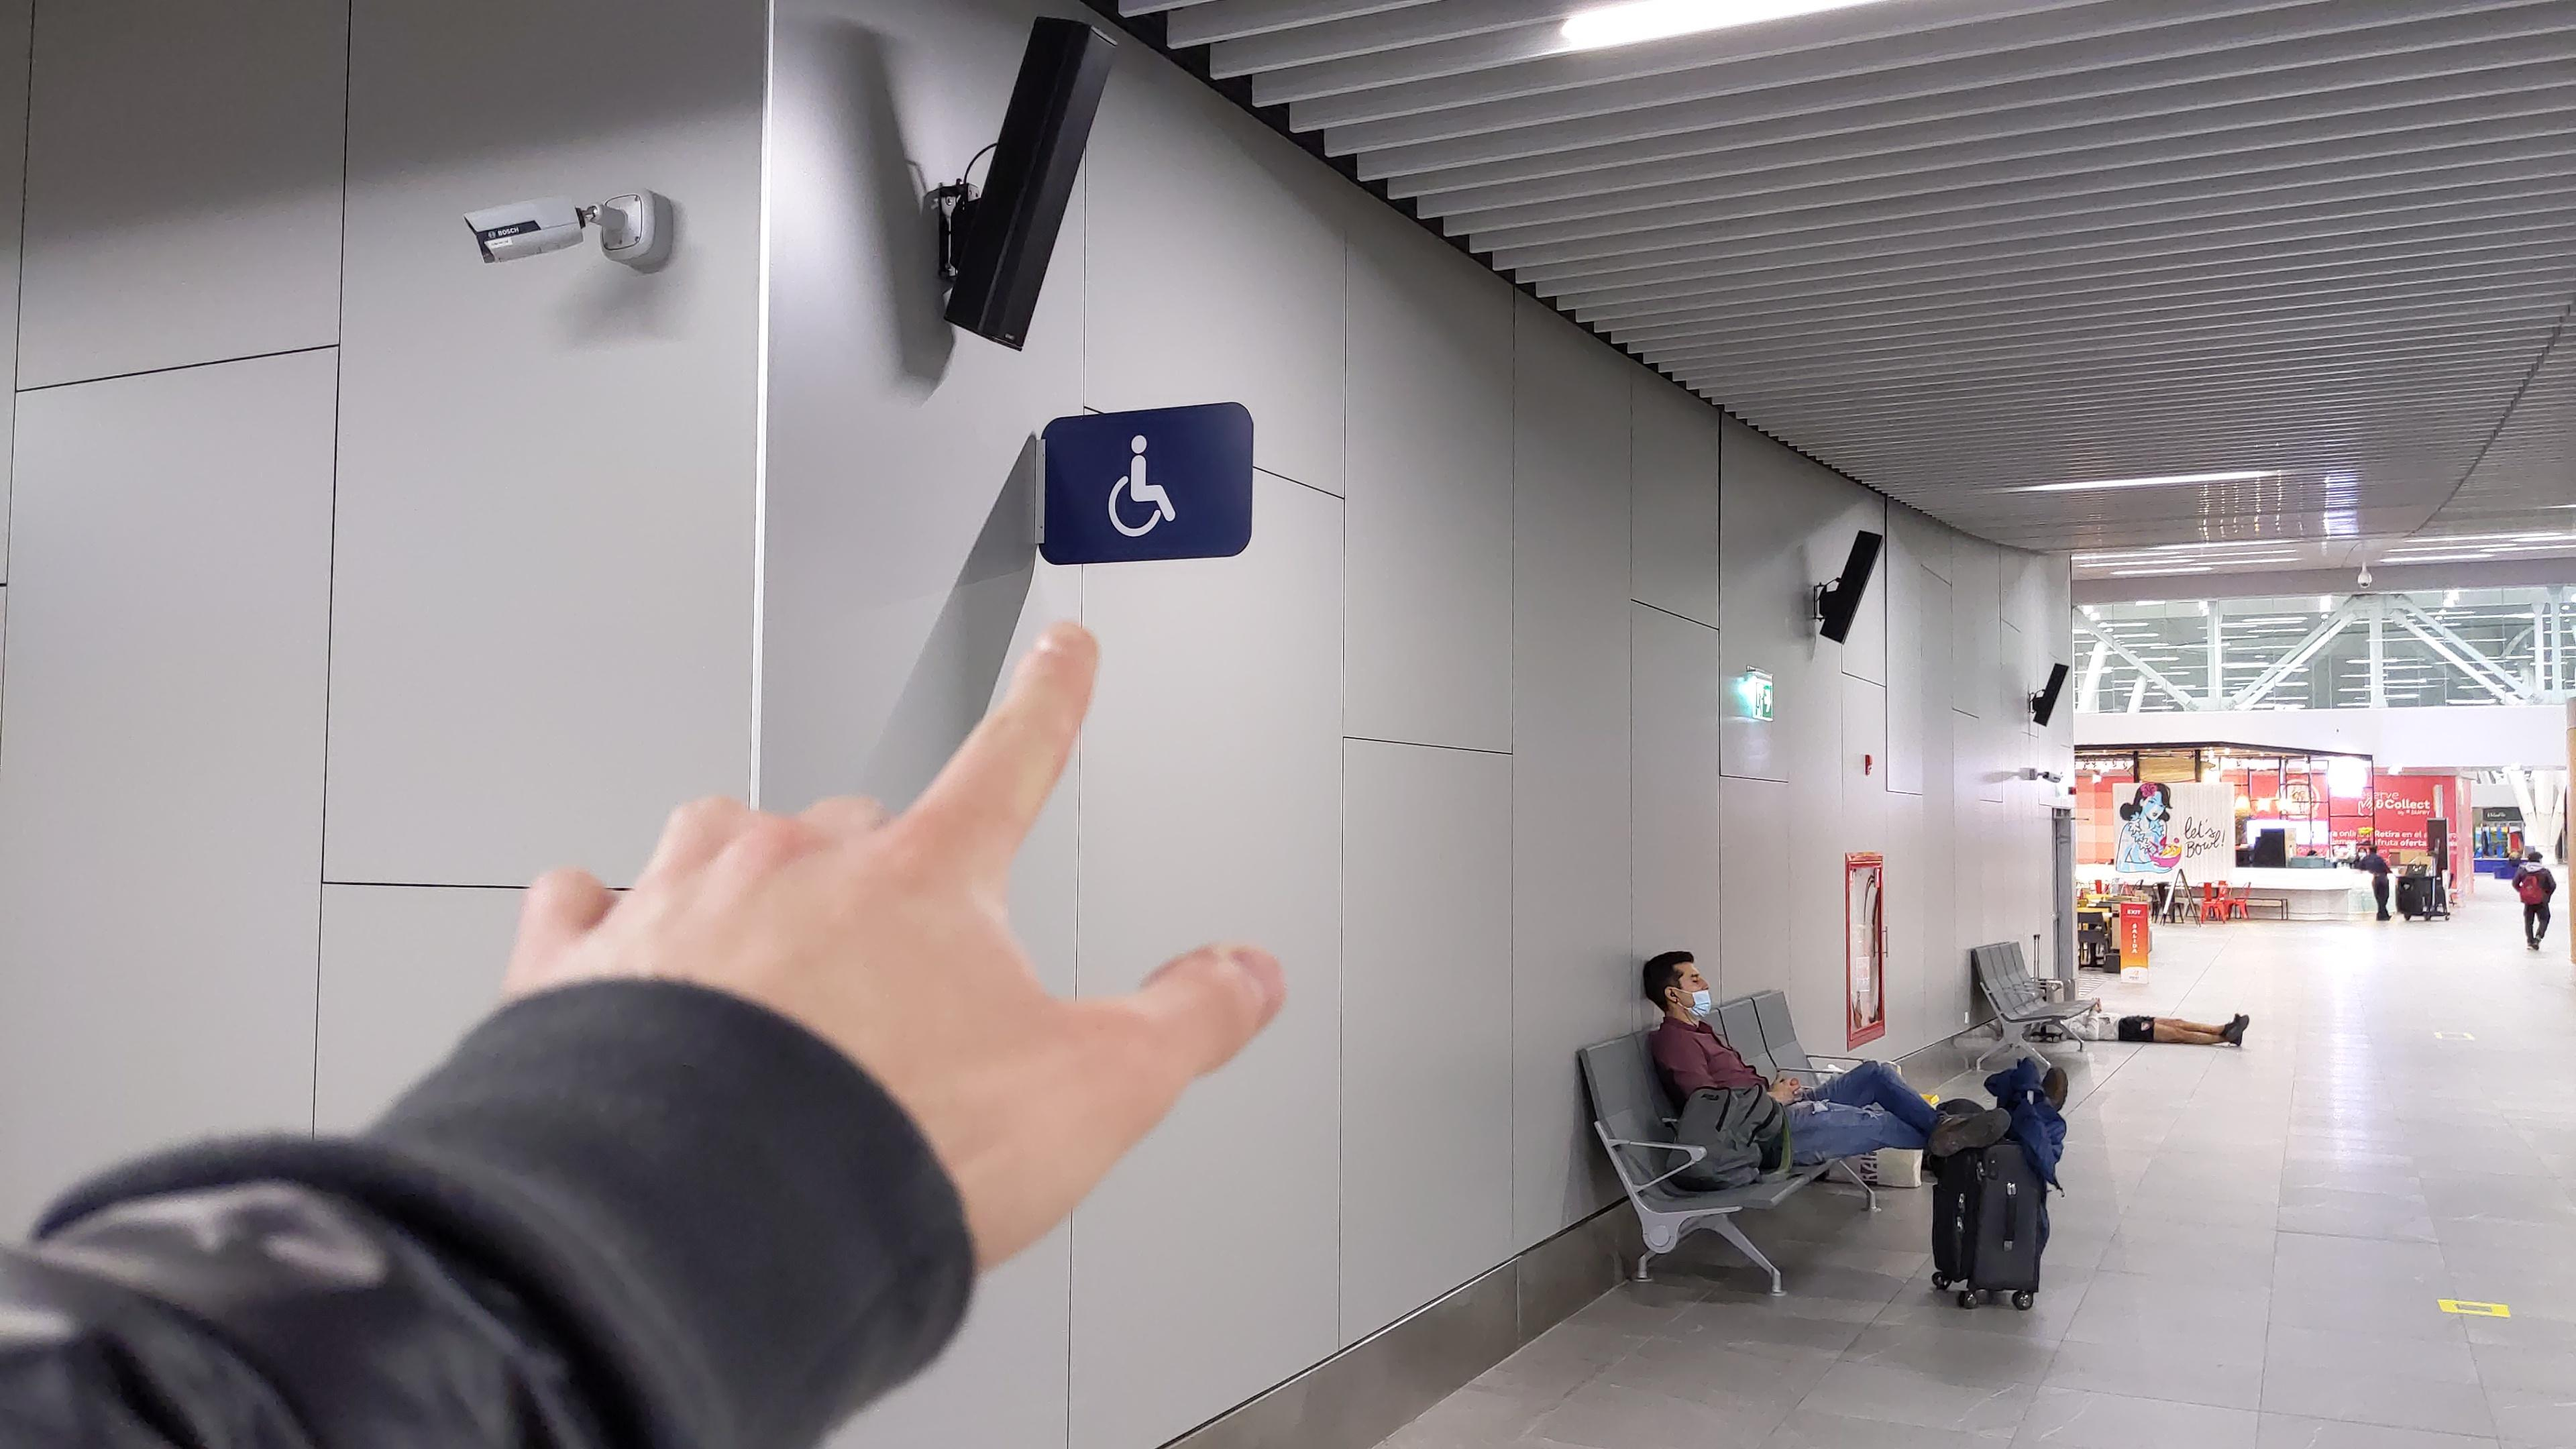handicapped symbol: (1099, 428, 1187, 543)
